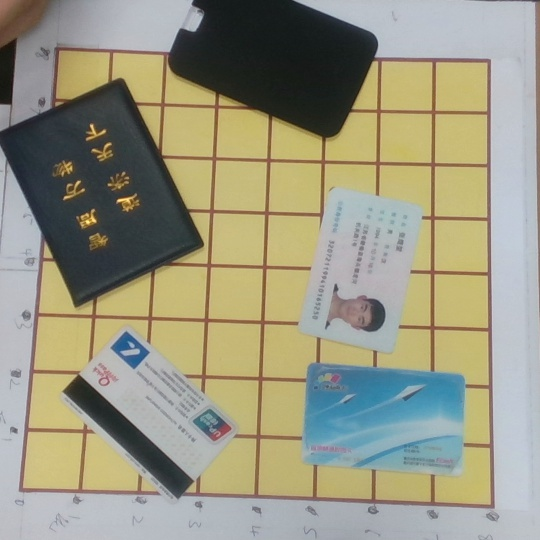card: (57, 324, 239, 509), (297, 187, 425, 355), (302, 360, 467, 475)
wallet: (1, 75, 205, 307), (168, 2, 380, 146)
